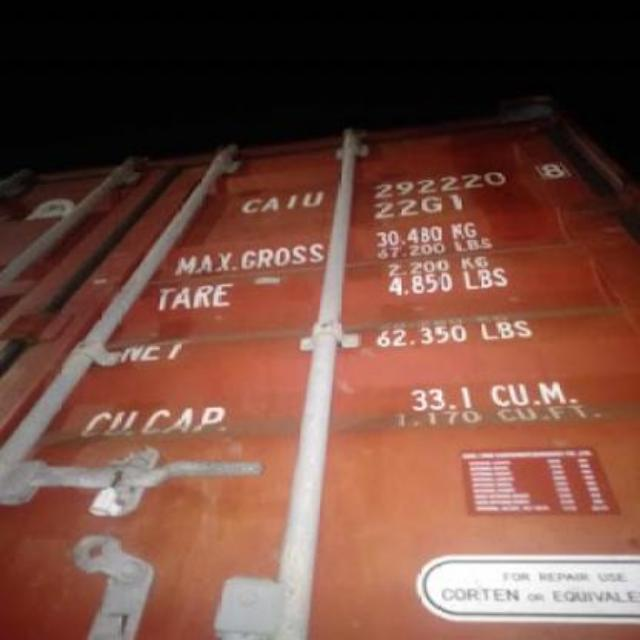0: (484, 162, 512, 192)
2: (436, 166, 460, 194), (458, 164, 482, 192), (414, 170, 438, 197), (372, 174, 394, 198)
8: (538, 155, 572, 181)
9: (394, 172, 412, 198)
A: (262, 188, 278, 215)
C: (236, 188, 260, 216)
I: (284, 185, 298, 212)
U: (302, 182, 326, 212)
